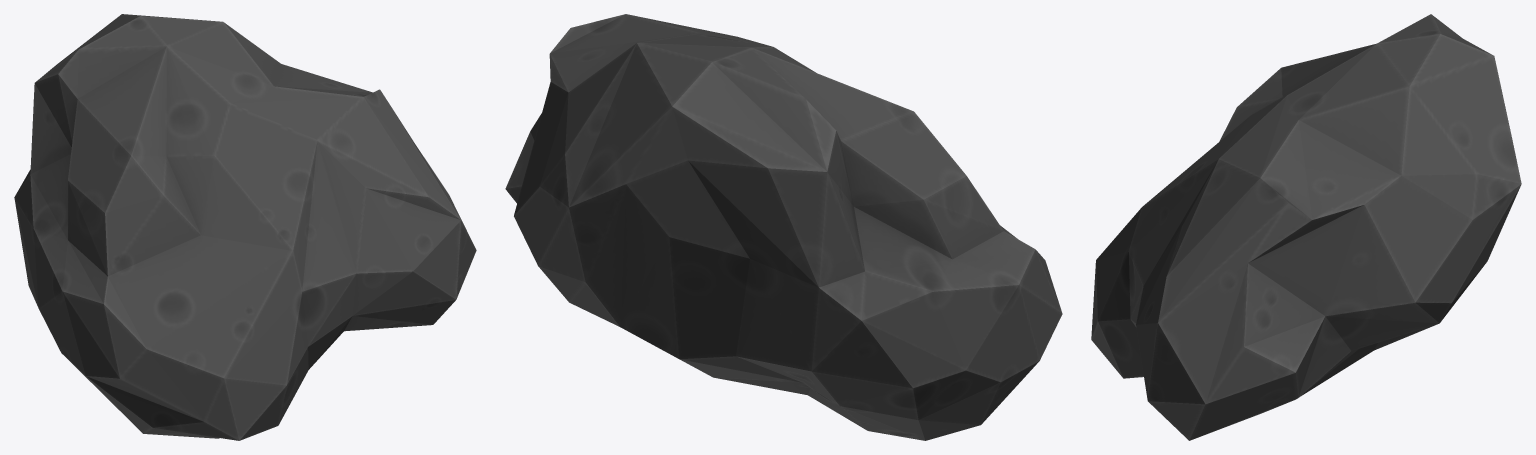
The model's file is rock_3.obj.
The picture shows the model from 3 angles, left to right: view 1: azimuth 30°, elevation 25°; view 2: azimuth 150°, elevation 25°; view 3: azimuth 270°, elevation 25°; orthographic projection. The views are drawn at different scales.
Parts seen in each view (by area): view 1: Asteroids_Mesh.003; view 2: Asteroids_Mesh.003; view 3: Asteroids_Mesh.003.
Boxes of the visible parts, x1,y1,x2,y2 form: Asteroids_Mesh.003: (14,14,476,440); Asteroids_Mesh.003: (505,14,1062,440); Asteroids_Mesh.003: (1091,14,1521,440).
Size of the model in its own units: 5.73 by 4.79 by 4.91.
